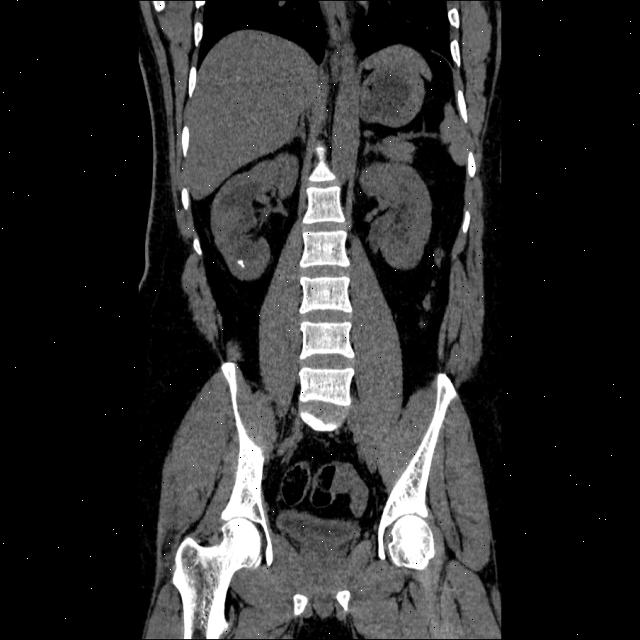kidneystone: (238, 259, 244, 269)
